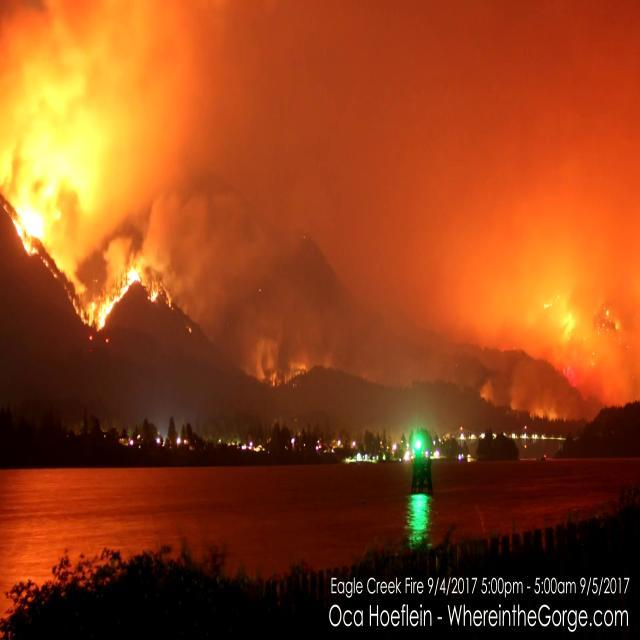Fire: (8, 152, 70, 255), (72, 264, 142, 328), (539, 276, 580, 354), (146, 273, 174, 311), (42, 257, 58, 279)
Smoke: (1, 9, 496, 396), (350, 306, 456, 391), (241, 322, 320, 382), (181, 174, 218, 278), (242, 326, 281, 389)
